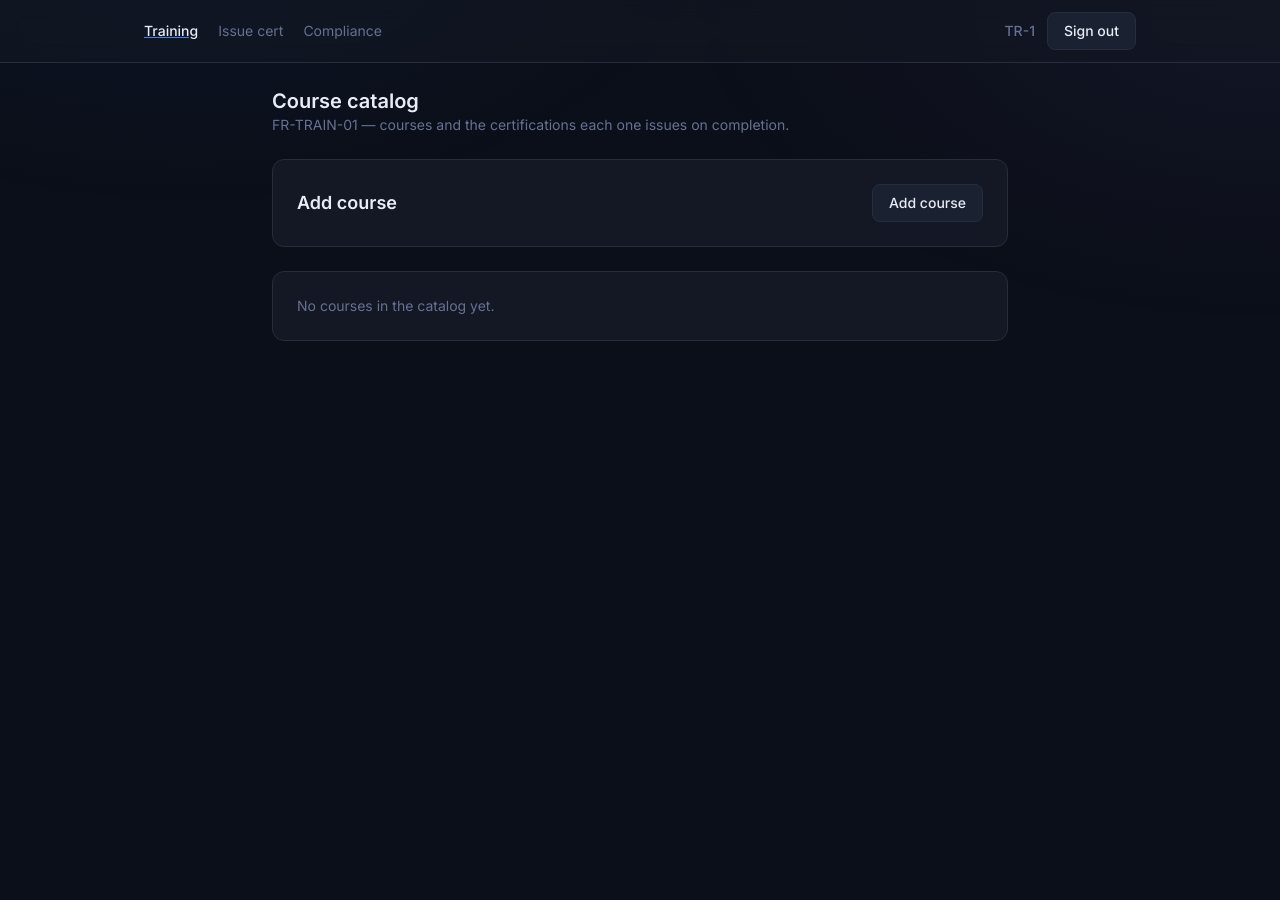
CourseCatalogPage › creates a course with title/validity/mandatory
expect the text "No courses in the catalog yet." is shown: met, box [297,297,494,314]
Click the button "Add course".
click(928, 203)  # box [872,184,983,222]
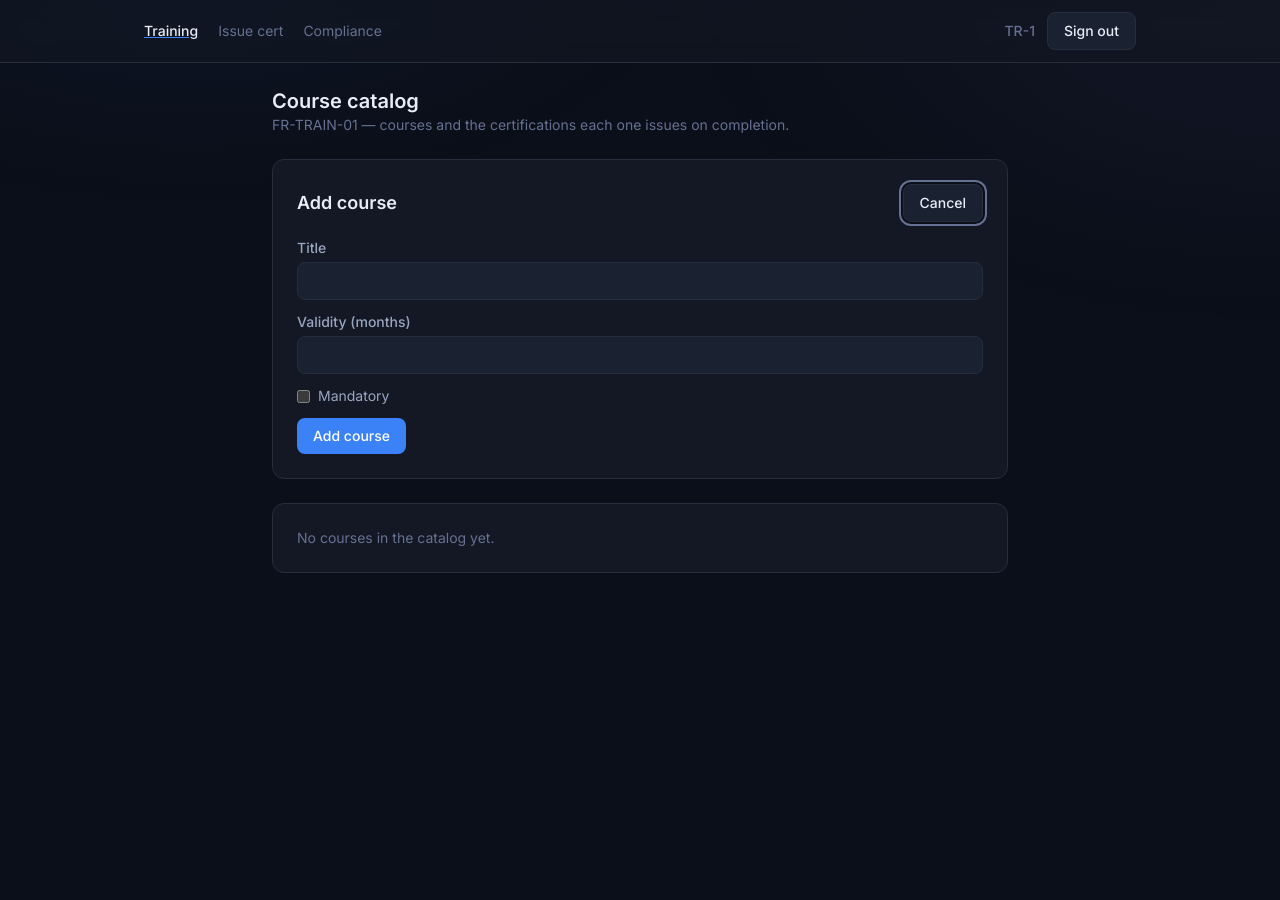
Type "Firearms" into the field labelled "Title".
click(640, 281); type("Firearms")  # box [297,262,983,300]
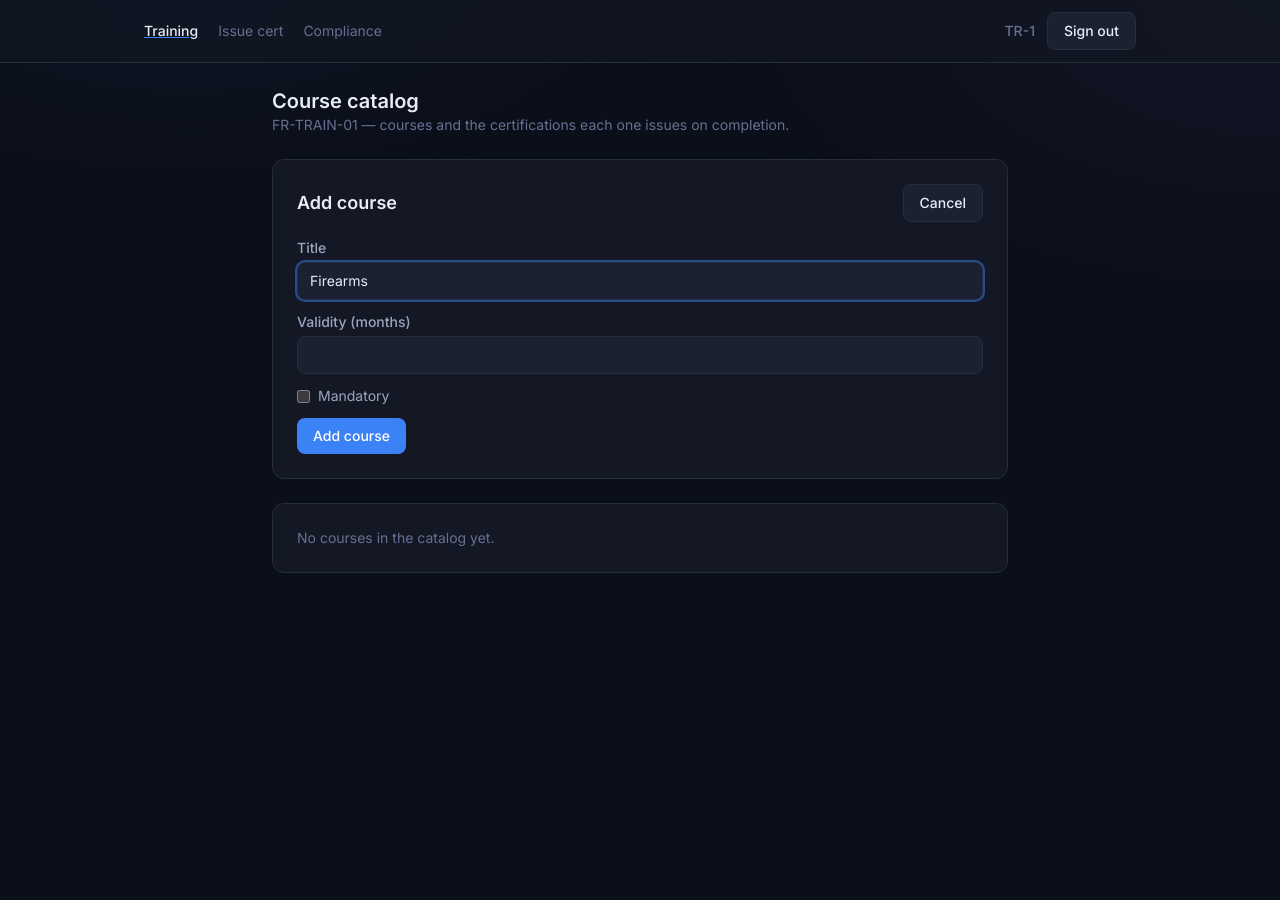
Type "24" into the number field labelled "Validity (months)".
click(640, 355); type("24")  # box [297,336,983,374]
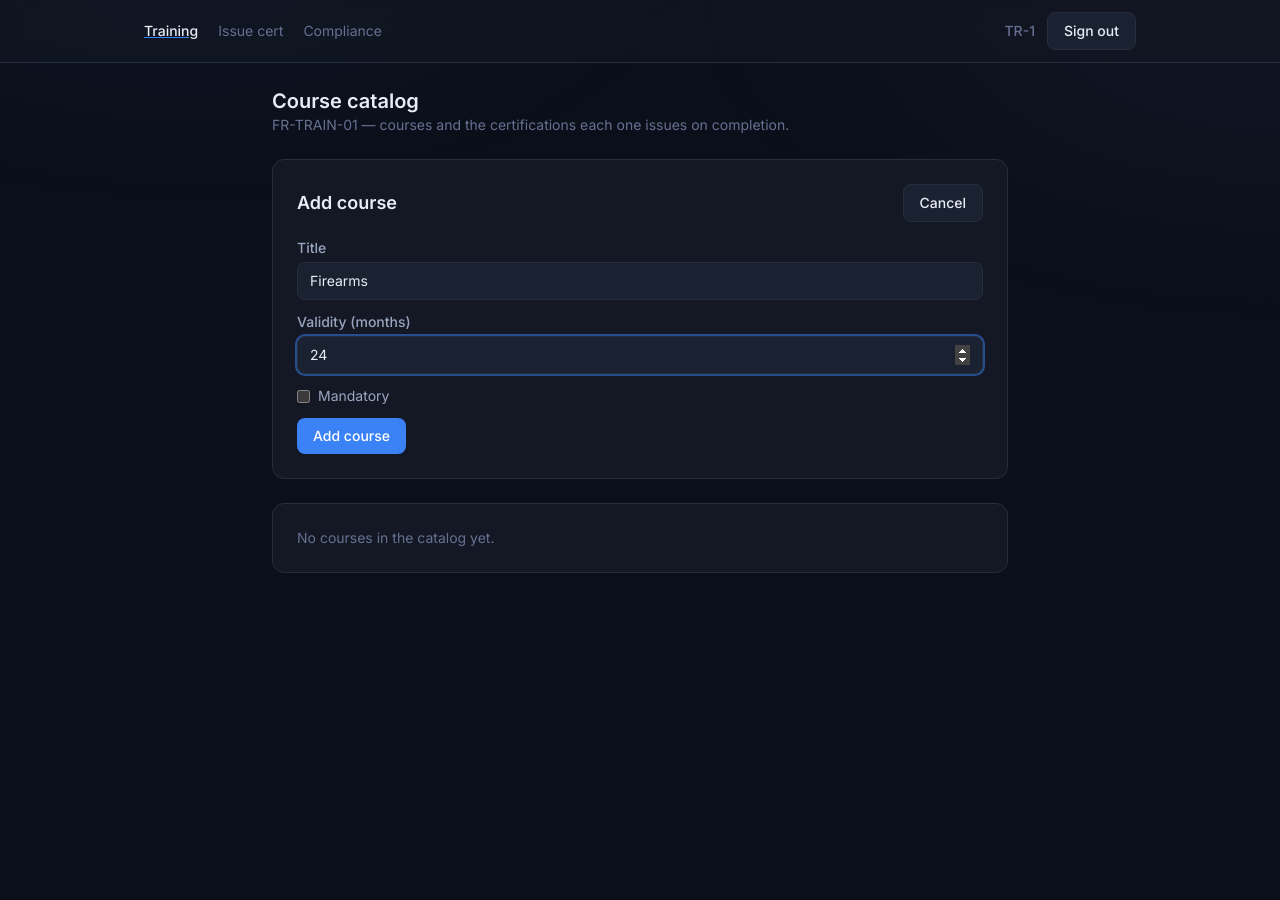
Click the checkbox labelled "Mandatory".
click(304, 396)  # box [297,390,310,402]
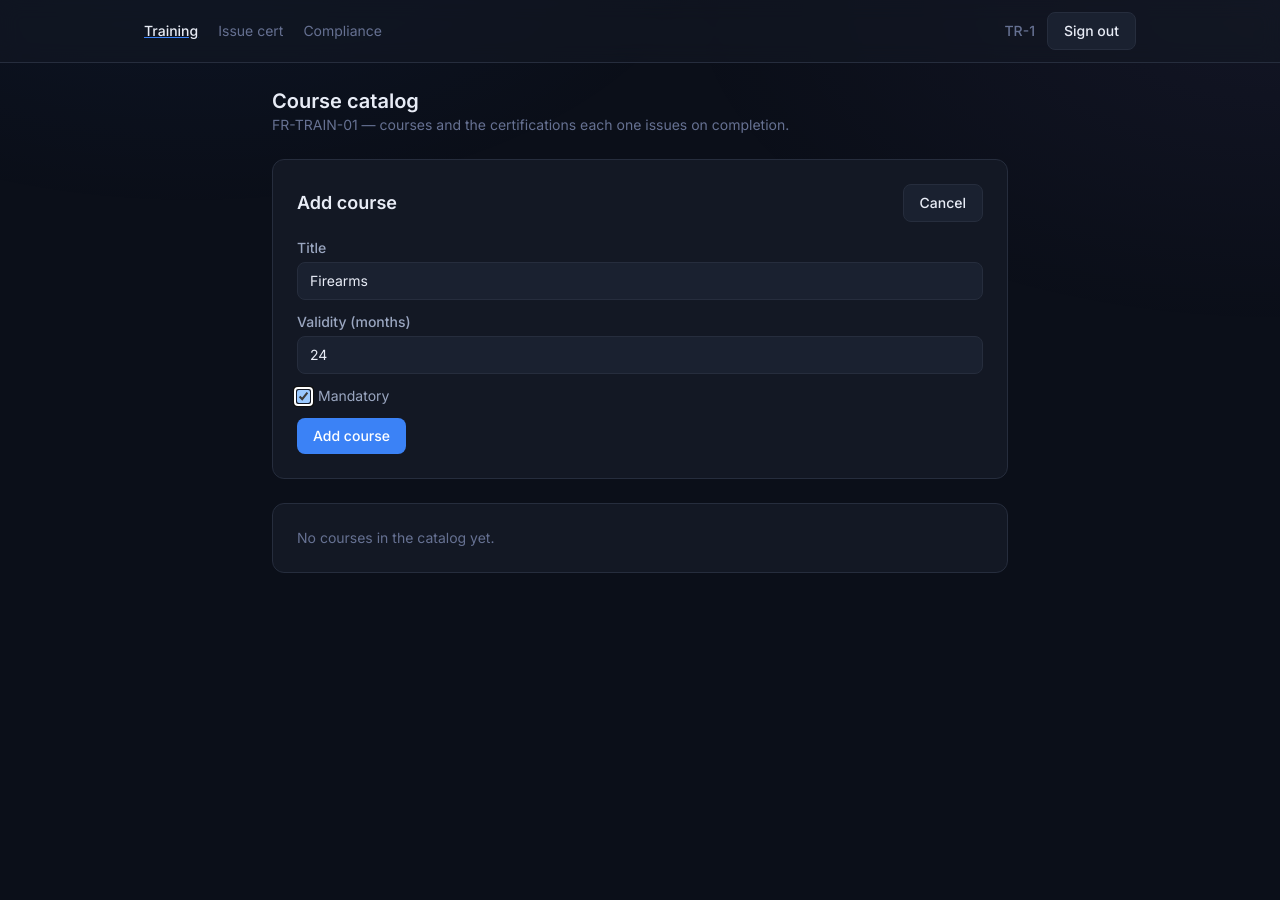
Click the button "Add course".
click(352, 436)  # box [297,418,406,454]
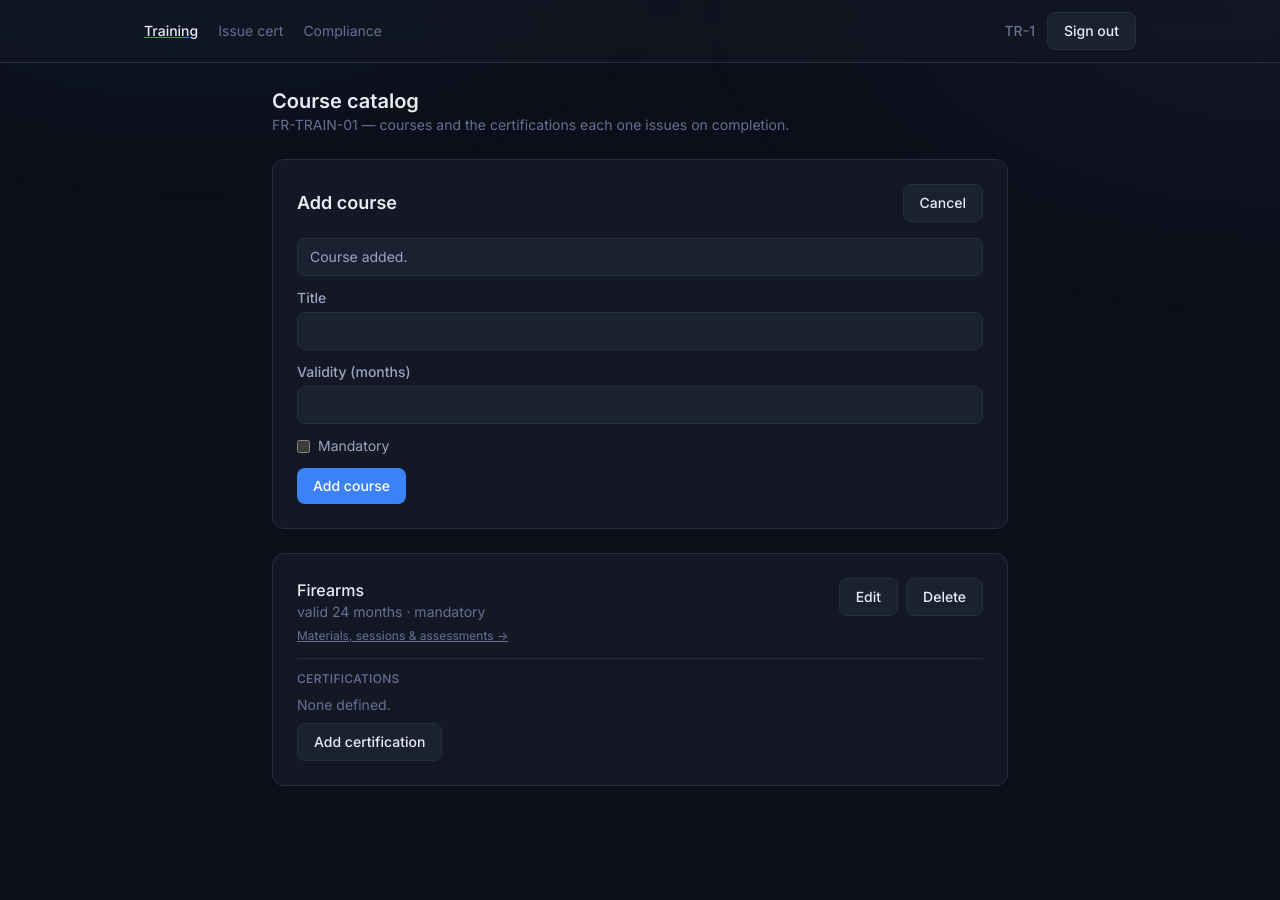
expect the text "Course added." is shown: met, box [297,238,983,276]
